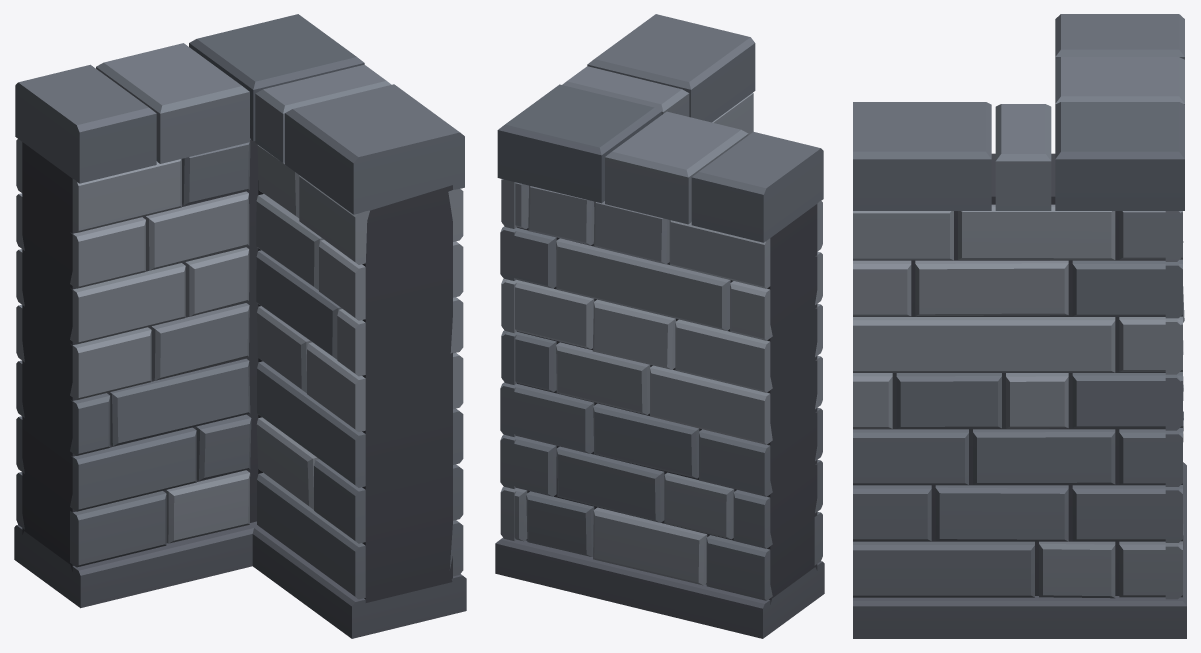
File: wall_ashlar_corner_B.glb
The picture shows the model from 3 angles, left to right: view 1: azimuth 30°, elevation 25°; view 2: azimuth 150°, elevation 25°; view 3: azimuth 270°, elevation 25°; orthographic projection. The views are drawn at different scales.
Parts seen in each view (by area): view 1: Item; view 2: Item; view 3: Item.
Boxes of the visible parts, x1=… form: Item: x1=14, y1=14, x2=466, y2=638; Item: x1=495, y1=14, x2=824, y2=638; Item: x1=853, y1=14, x2=1186, y2=638.
Size of the model in its own units: 2.5 by 4 by 2.5.
1 material, 1 textured.
